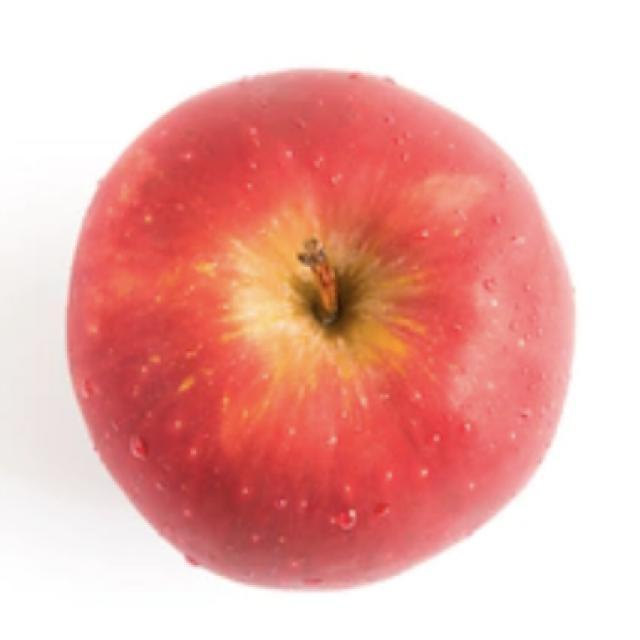Fresh Apple: (70, 69, 562, 598)
